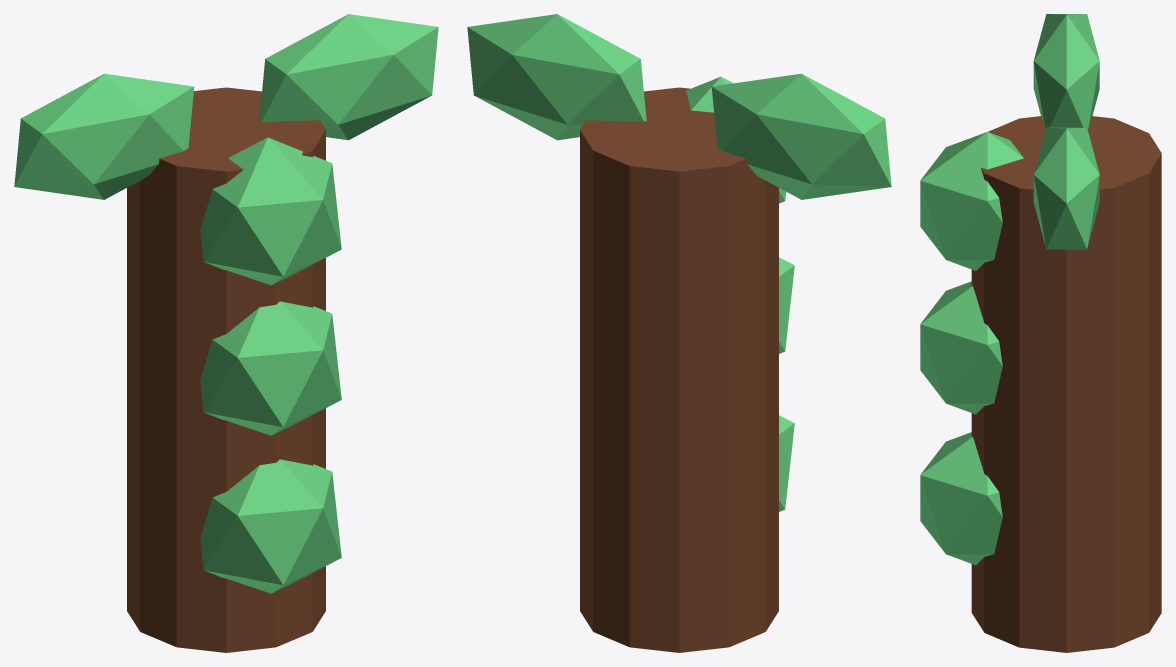
The model's file is grove-totem-1.glb.
3 renders of one model, left to right at view 1: azimuth 30°, elevation 25°; view 2: azimuth 150°, elevation 25°; view 3: azimuth 270°, elevation 25°, orthographic. The views are drawn at different scales.
Visible parts, largest first — view 1: Cylinder, Icosphere.003, Icosphere.004, Icosphere.002, Icosphere.001, Icosphere; view 2: Cylinder, Icosphere.003, Icosphere.004, Icosphere.001, Icosphere, Icosphere.002; view 3: Cylinder, Icosphere.002, Icosphere, Icosphere.001, Icosphere.004, Icosphere.003.
Part boxes in pixels (x1,y1,x2,y2): Cylinder: [127, 87, 325, 652]; Icosphere.003: [14, 73, 194, 199]; Icosphere.004: [259, 14, 438, 140]; Icosphere.002: [200, 137, 341, 285]; Icosphere.001: [200, 301, 341, 435]; Icosphere: [200, 459, 341, 593]; Cylinder: [580, 87, 778, 652]; Icosphere.003: [711, 73, 891, 199]; Icosphere.004: [467, 14, 646, 140]; Icosphere.001: [779, 257, 794, 353]; Icosphere: [779, 415, 794, 511]; Icosphere.002: [686, 76, 786, 203]; Cylinder: [971, 116, 1161, 652]; Icosphere.002: [920, 132, 1023, 270]; Icosphere: [920, 432, 1002, 565]; Icosphere.001: [920, 281, 1002, 414]; Icosphere.004: [1033, 127, 1099, 249]; Icosphere.003: [1033, 14, 1099, 128].
Bounding box in the file's own units: 0.5904 × 0.754 × 0.3051.
